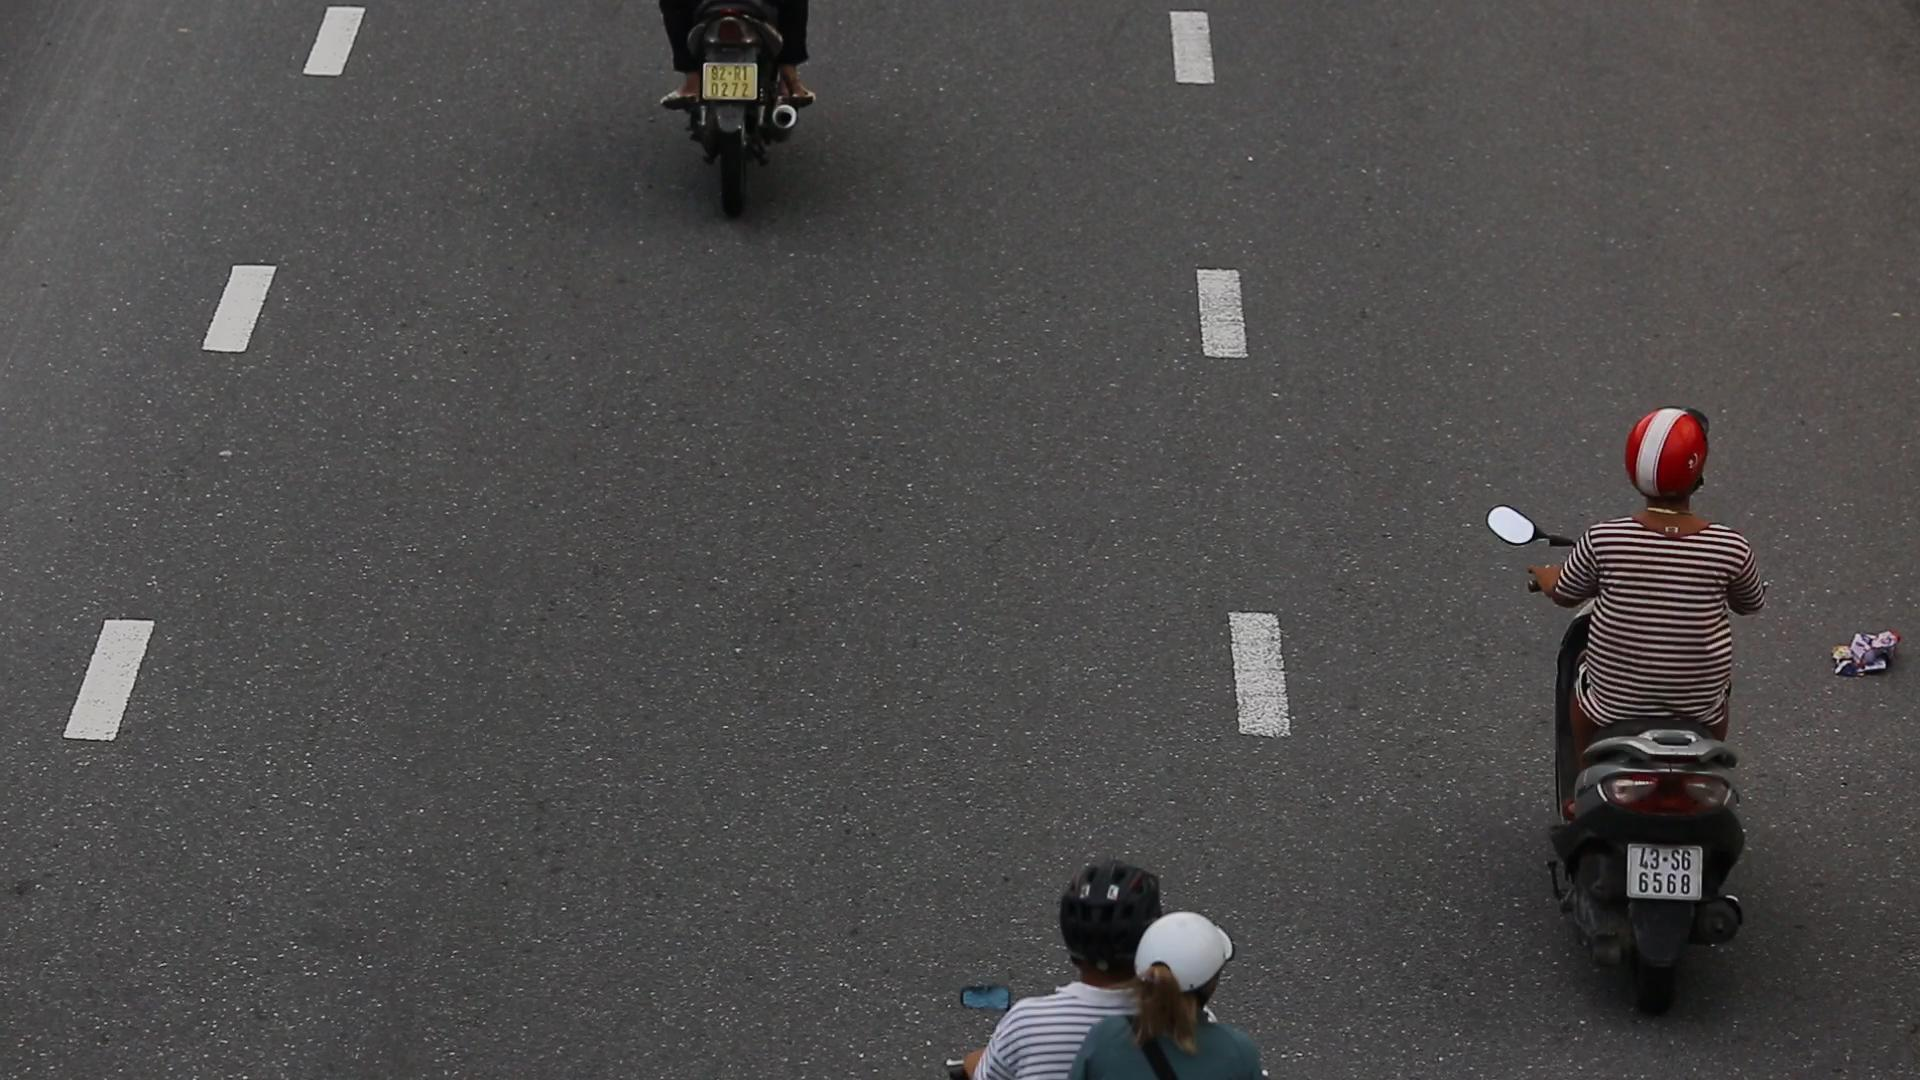motobike: (1495, 396, 1793, 1011)
